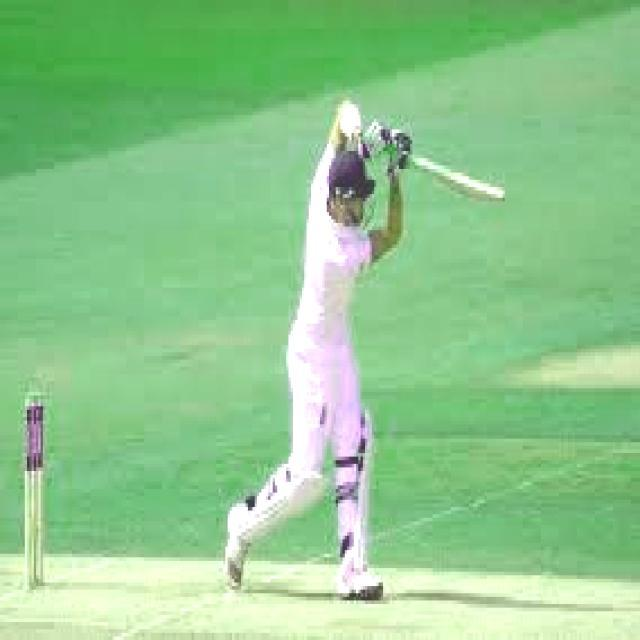bat: (401, 153, 511, 208)
toe: (486, 188, 512, 205)
